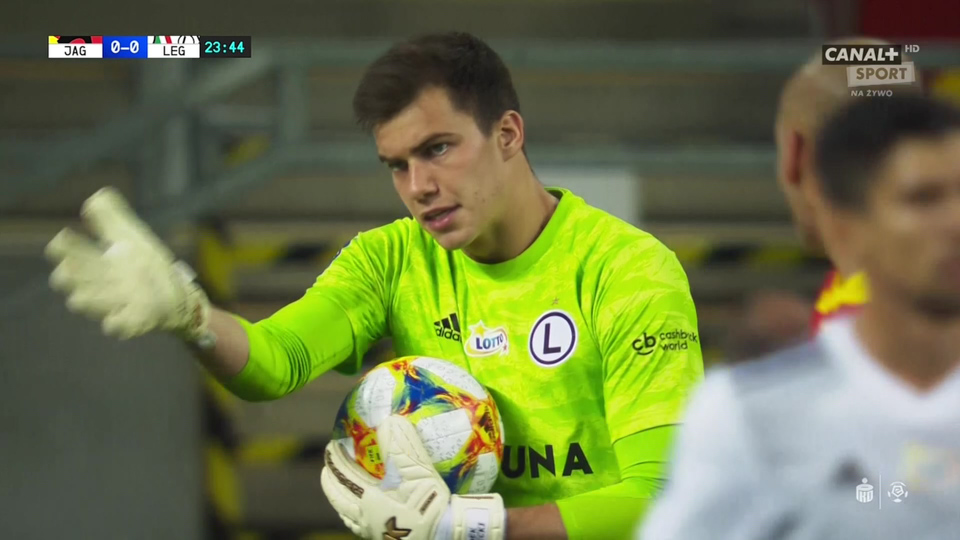Adidas: (430, 312, 464, 343)
